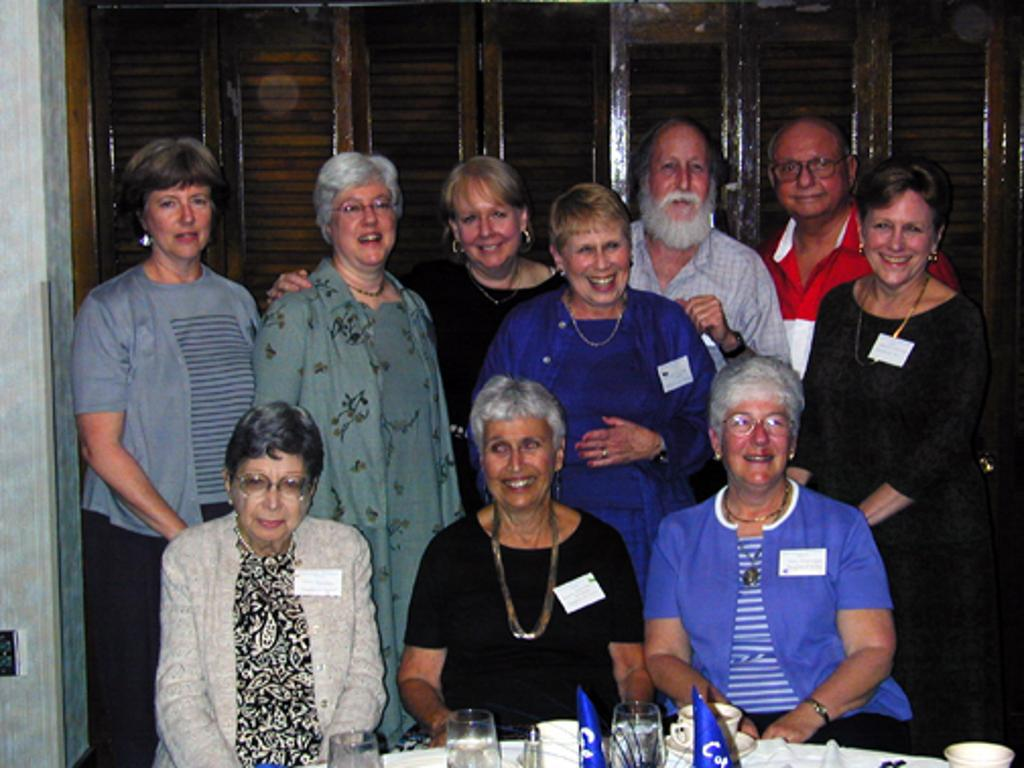face: (863, 187, 937, 291), (557, 205, 631, 305), (143, 167, 211, 259), (651, 129, 711, 231), (237, 453, 305, 541), (489, 413, 547, 511), (727, 399, 793, 485), (777, 131, 841, 217), (455, 179, 513, 267), (339, 173, 393, 261)
